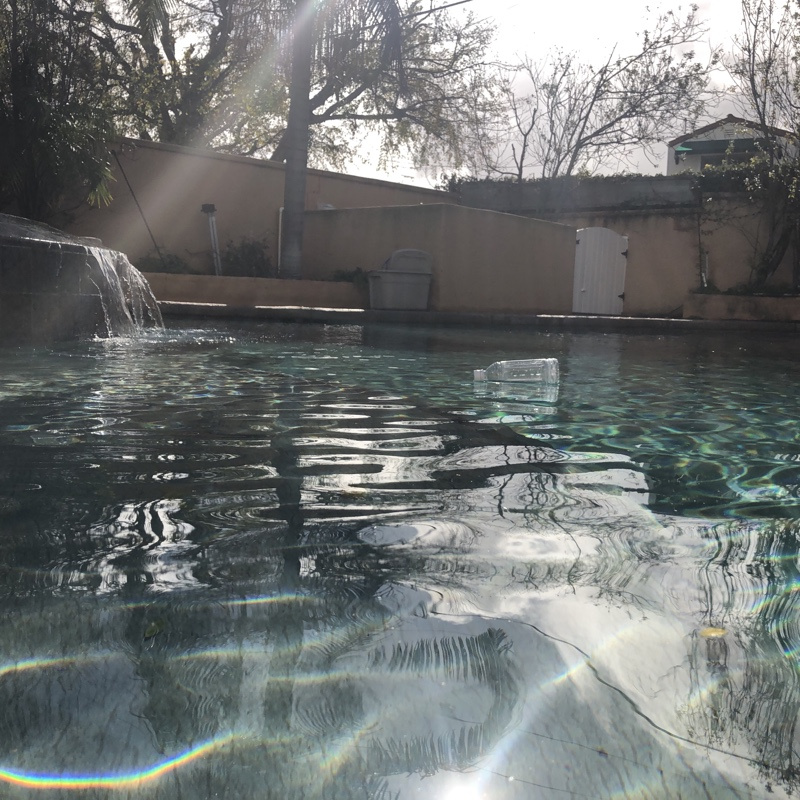Plastic Bottle: (469, 356, 559, 392)
